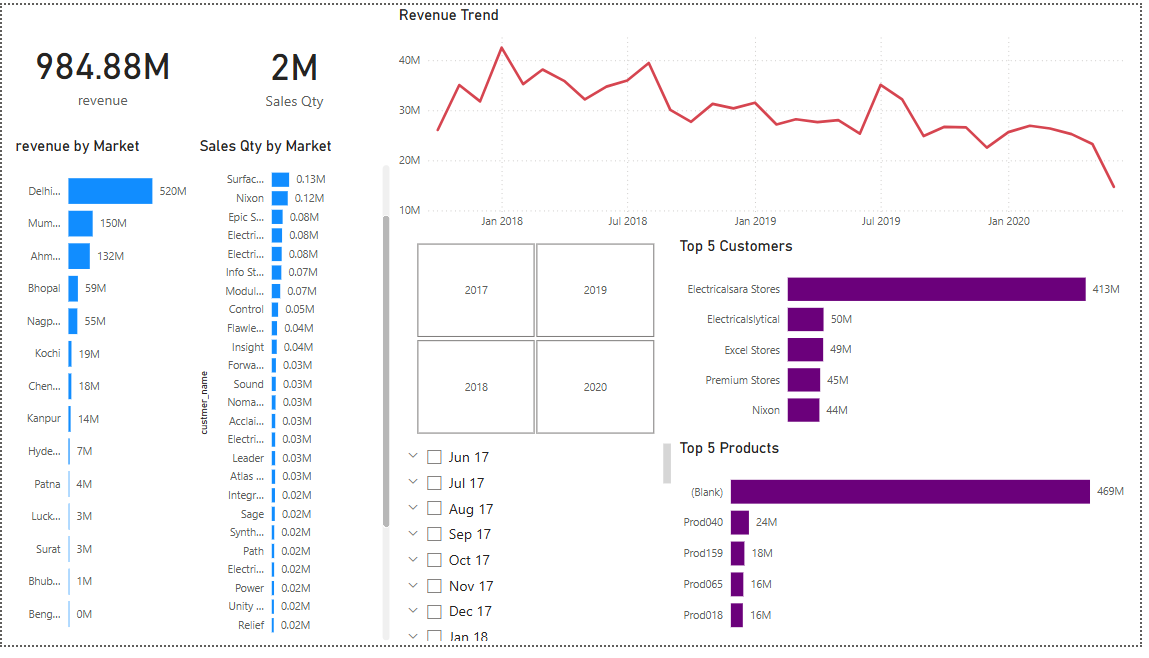

The dashboard page shown, as its layout file describes it:
{"tool":"powerbi","page":{"name":"Page 1","canvas":[1280,720],"ordinal":0},"visuals":[{"type":"card","fields":{"Values":["BaseMeasures.revenue"]},"box":[10,0,207.1,148.6],"z":0},{"type":"card","fields":{"Values":["BaseMeasures.Sales Qty"]},"box":[217.1,1.4,224.3,148.6],"z":1000},{"type":"barChart","title":"revenue by Market","fields":{"Y":["BaseMeasures.revenue"],"Category":["sales markets.markets_name"]},"box":[10,148.6,207.1,571.4],"z":2000},{"type":"barChart","title":"Sales Qty by Market","fields":{"Y":["BaseMeasures.Sales Qty"],"Category":["sales customers.custmer_name"]},"box":[217.1,148.6,224.3,571.4],"z":3000},{"type":"slicer","fields":{"Values":["sales date.year"]},"box":[441.4,261.4,315.7,227.1],"z":4000},{"type":"slicer","fields":{"Values":["sales date.cy_date","sales date.year"]},"box":[441.4,488.6,315.7,231.4],"z":5000},{"type":"barChart","title":"Top 5 Customers","fields":{"Y":["BaseMeasures.revenue"],"Category":["sales customers.custmer_name"]},"box":[757.1,261.4,522.9,227.1],"z":6000},{"type":"barChart","title":"Top 5 Products","fields":{"Y":["BaseMeasures.revenue"],"Category":["sales products.product_code"]},"box":[757.1,488.6,522.9,231.4],"z":7000},{"type":"lineChart","title":"Revenue Trend","fields":{"Y":["BaseMeasures.revenue"],"Category":["sales date.cy_date.Variation.Date Hierarchy.Year","sales date.cy_date.Variation.Date Hierarchy.Quarter","sales date.cy_date.Variation.Date Hierarchy.Month","sales date.cy_date.Variation.Date Hierarchy.Day"]},"box":[441.4,1.4,838.6,260],"z":8000}]}

Visuals, with their boxes in screenshot pixels (x1, y1, x2, y2), scaled from the page's 1280x720 canvas onto the 1149x658 screenshot:
card - BaseMeasures.revenue: bbox=[9, 0, 195, 136]
card - BaseMeasures.Sales Qty: bbox=[195, 1, 396, 137]
"revenue by Market" barChart: bbox=[9, 136, 195, 657]
"Sales Qty by Market" barChart: bbox=[195, 136, 396, 657]
slicer - sales date.year: bbox=[396, 239, 680, 446]
slicer - sales date.cy_date x sales date.year: bbox=[396, 447, 680, 657]
"Top 5 Customers" barChart: bbox=[680, 239, 1148, 446]
"Top 5 Products" barChart: bbox=[680, 447, 1148, 657]
"Revenue Trend" lineChart: bbox=[396, 1, 1148, 239]
